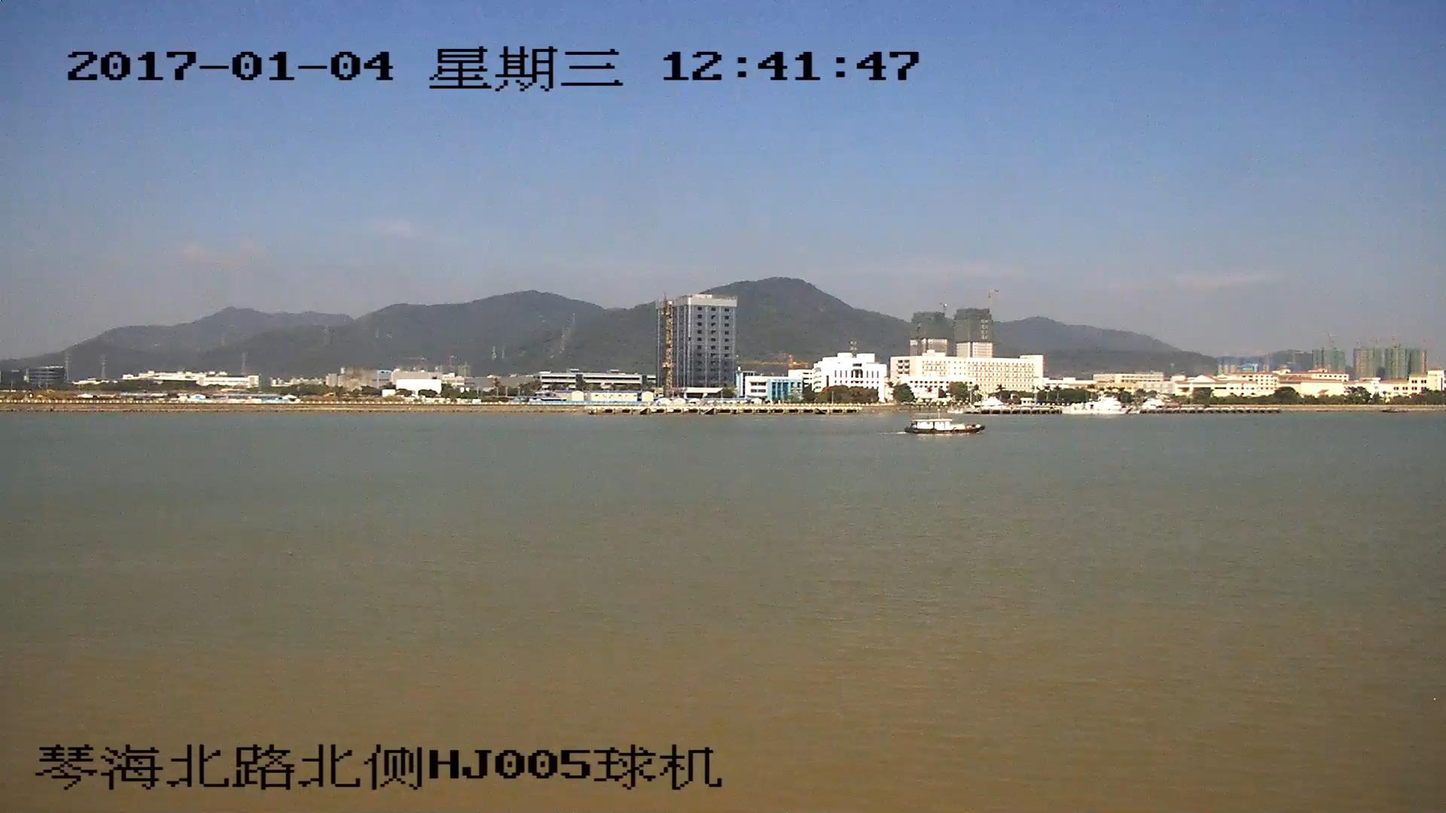fishing boat: (905, 413, 981, 434)
